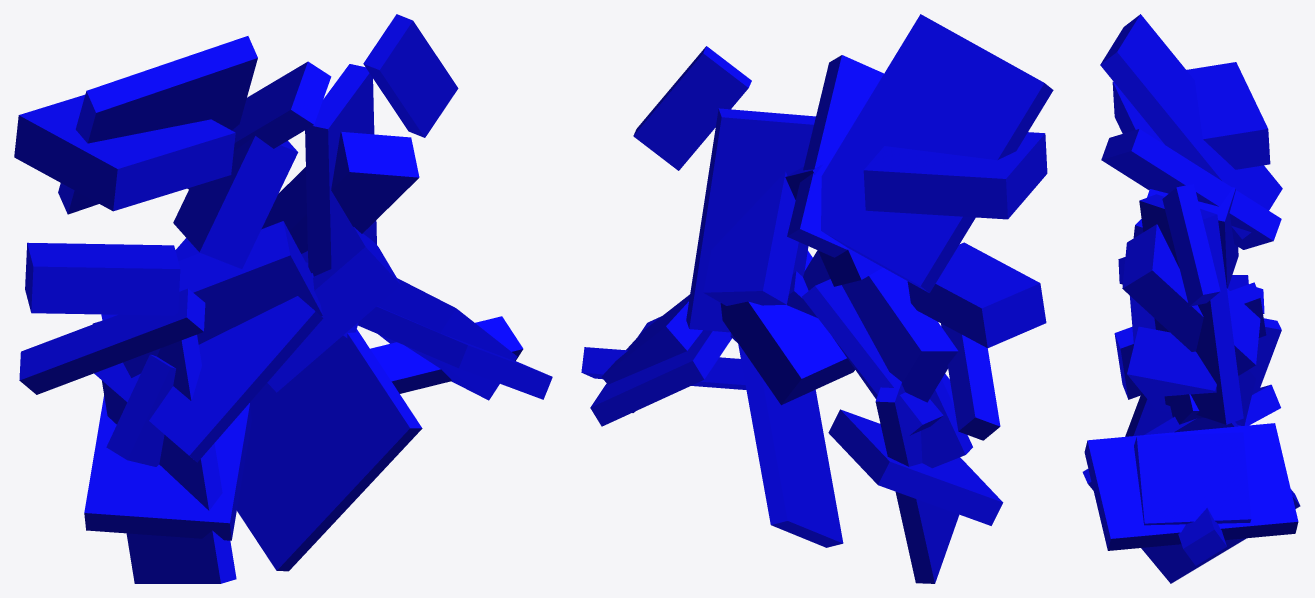
The model's file is test.layouter.randomBoxes.gltf.
3 renders of one model, left to right at view 1: azimuth 30°, elevation 25°; view 2: azimuth 150°, elevation 25°; view 3: azimuth 270°, elevation 25°, orthographic. The views are drawn at different scales.
Visible parts, largest first — view 1: shape_3, shape_6, shape_7, shape_18, shape_10, shape_0, shape_11, shape_4, shape_1, shape_12, shape_2, shape_17 (+7 smaller); view 2: shape_18, shape_17, shape_6, shape_3, shape_0, shape_4, shape_5, shape_2, shape_10, shape_15, shape_9, shape_11 (+8 smaller); view 3: shape_19, shape_18, shape_14, shape_2, shape_6, shape_15, shape_17, shape_5, shape_9, shape_3, shape_11, shape_7 (+5 smaller).
Part boxes in pixels (bbox=[...]): shape_3: bbox=[237, 329, 422, 571]; shape_6: bbox=[14, 94, 235, 211]; shape_7: bbox=[94, 238, 323, 462]; shape_18: bbox=[58, 36, 257, 214]; shape_10: bbox=[84, 395, 251, 540]; shape_0: bbox=[25, 242, 180, 315]; shape_11: bbox=[93, 321, 236, 583]; shape_4: bbox=[101, 221, 322, 377]; shape_1: bbox=[173, 136, 298, 268]; shape_12: bbox=[19, 288, 205, 394]; shape_2: bbox=[261, 132, 419, 253]; shape_17: bbox=[305, 64, 376, 276]; shape_18: bbox=[821, 14, 1053, 292]; shape_17: bbox=[686, 108, 815, 332]; shape_6: bbox=[863, 132, 1047, 219]; shape_3: bbox=[738, 343, 843, 547]; shape_0: bbox=[907, 242, 1046, 348]; shape_4: bbox=[803, 250, 958, 402]; shape_5: bbox=[720, 250, 854, 405]; shape_2: bbox=[703, 171, 798, 305]; shape_10: bbox=[828, 409, 1003, 525]; shape_15: bbox=[787, 55, 883, 257]; shape_9: bbox=[633, 46, 751, 170]; shape_11: bbox=[875, 372, 959, 583]; shape_19: bbox=[1084, 423, 1298, 550]; shape_18: bbox=[1100, 14, 1282, 239]; shape_14: bbox=[1134, 432, 1251, 525]; shape_2: bbox=[1122, 224, 1260, 375]; shape_6: bbox=[1112, 62, 1270, 169]; shape_15: bbox=[1101, 129, 1281, 249]; shape_17: bbox=[1139, 194, 1243, 424]; shape_5: bbox=[1127, 326, 1255, 425]; shape_9: bbox=[1162, 184, 1220, 306]; shape_3: bbox=[1082, 416, 1300, 583]; shape_11: bbox=[1125, 318, 1281, 436]; shape_7: bbox=[1114, 282, 1266, 399].
Size of the model in its own units: 144 by 162 by 63.64.
